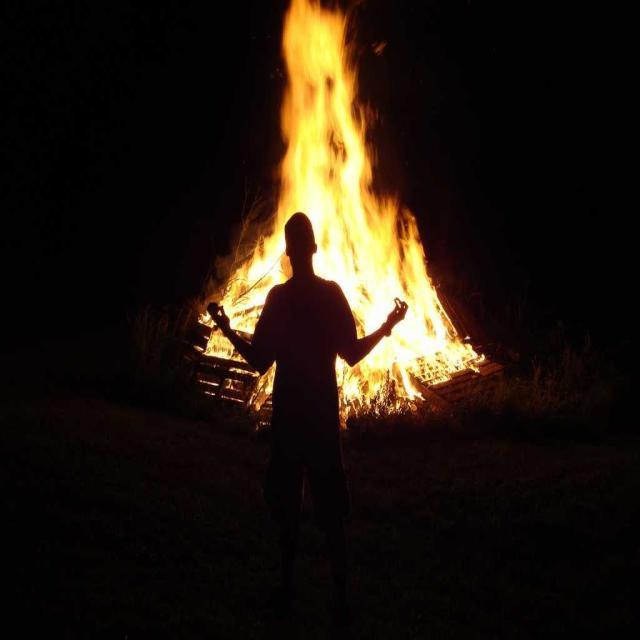Fire: (276, 90, 450, 370)
